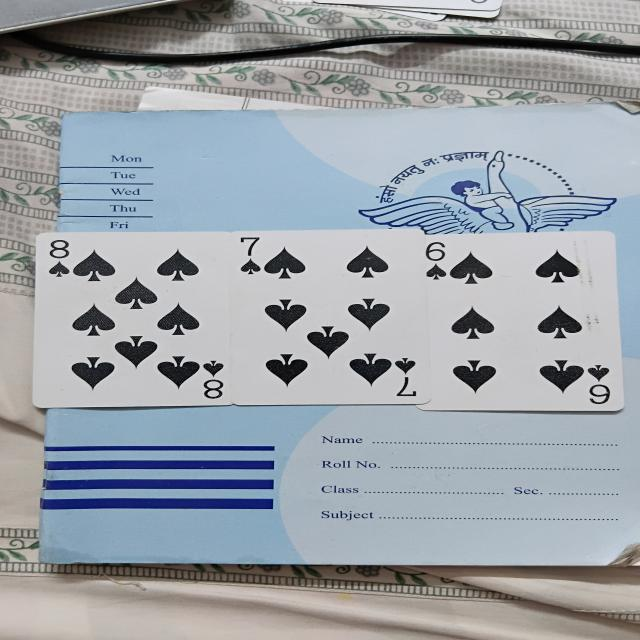7S: (236, 229, 428, 404)
